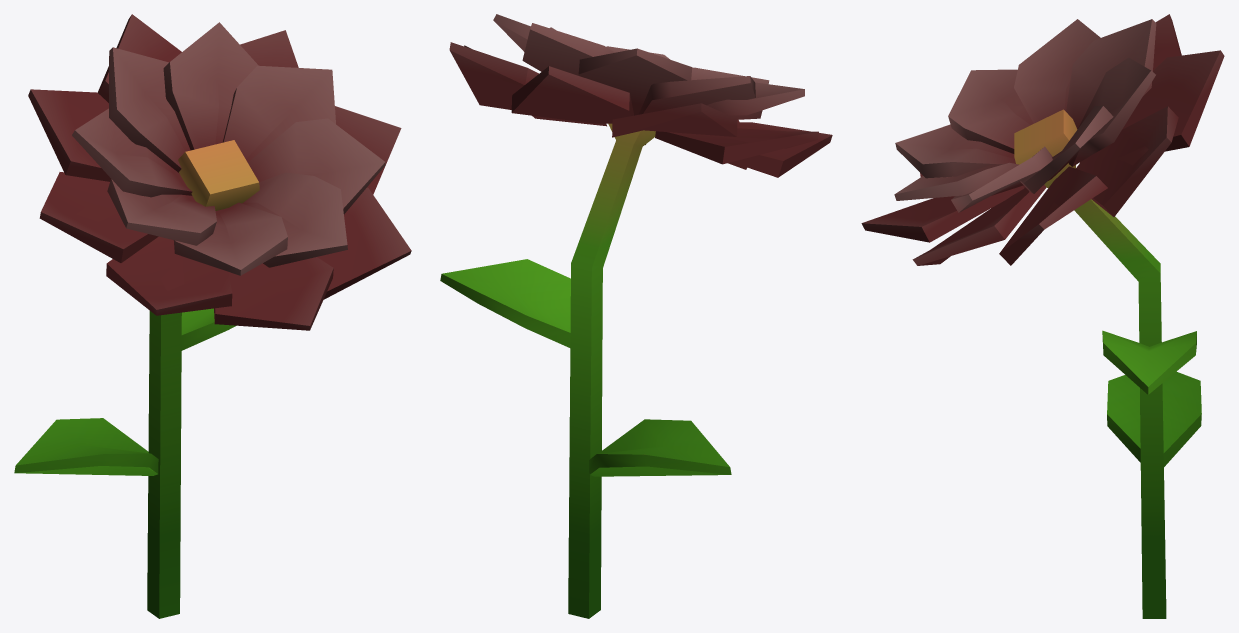
The model's file is CicekYeni.fbx.
3 renders of one model, left to right at view 1: azimuth 30°, elevation 25°; view 2: azimuth 150°, elevation 25°; view 3: azimuth 270°, elevation 25°, orthographic.
Visible parts, largest first — view 1: Cicek; view 2: Cicek; view 3: Cicek.
Part boxes in pixels (x1,y1,x2,y2): Cicek: (14, 14, 411, 618); Cicek: (440, 14, 832, 618); Cicek: (861, 14, 1224, 618).
Size of the model in its own units: 53.66 by 82.72 by 47.77.
1 material, 1 textured.
